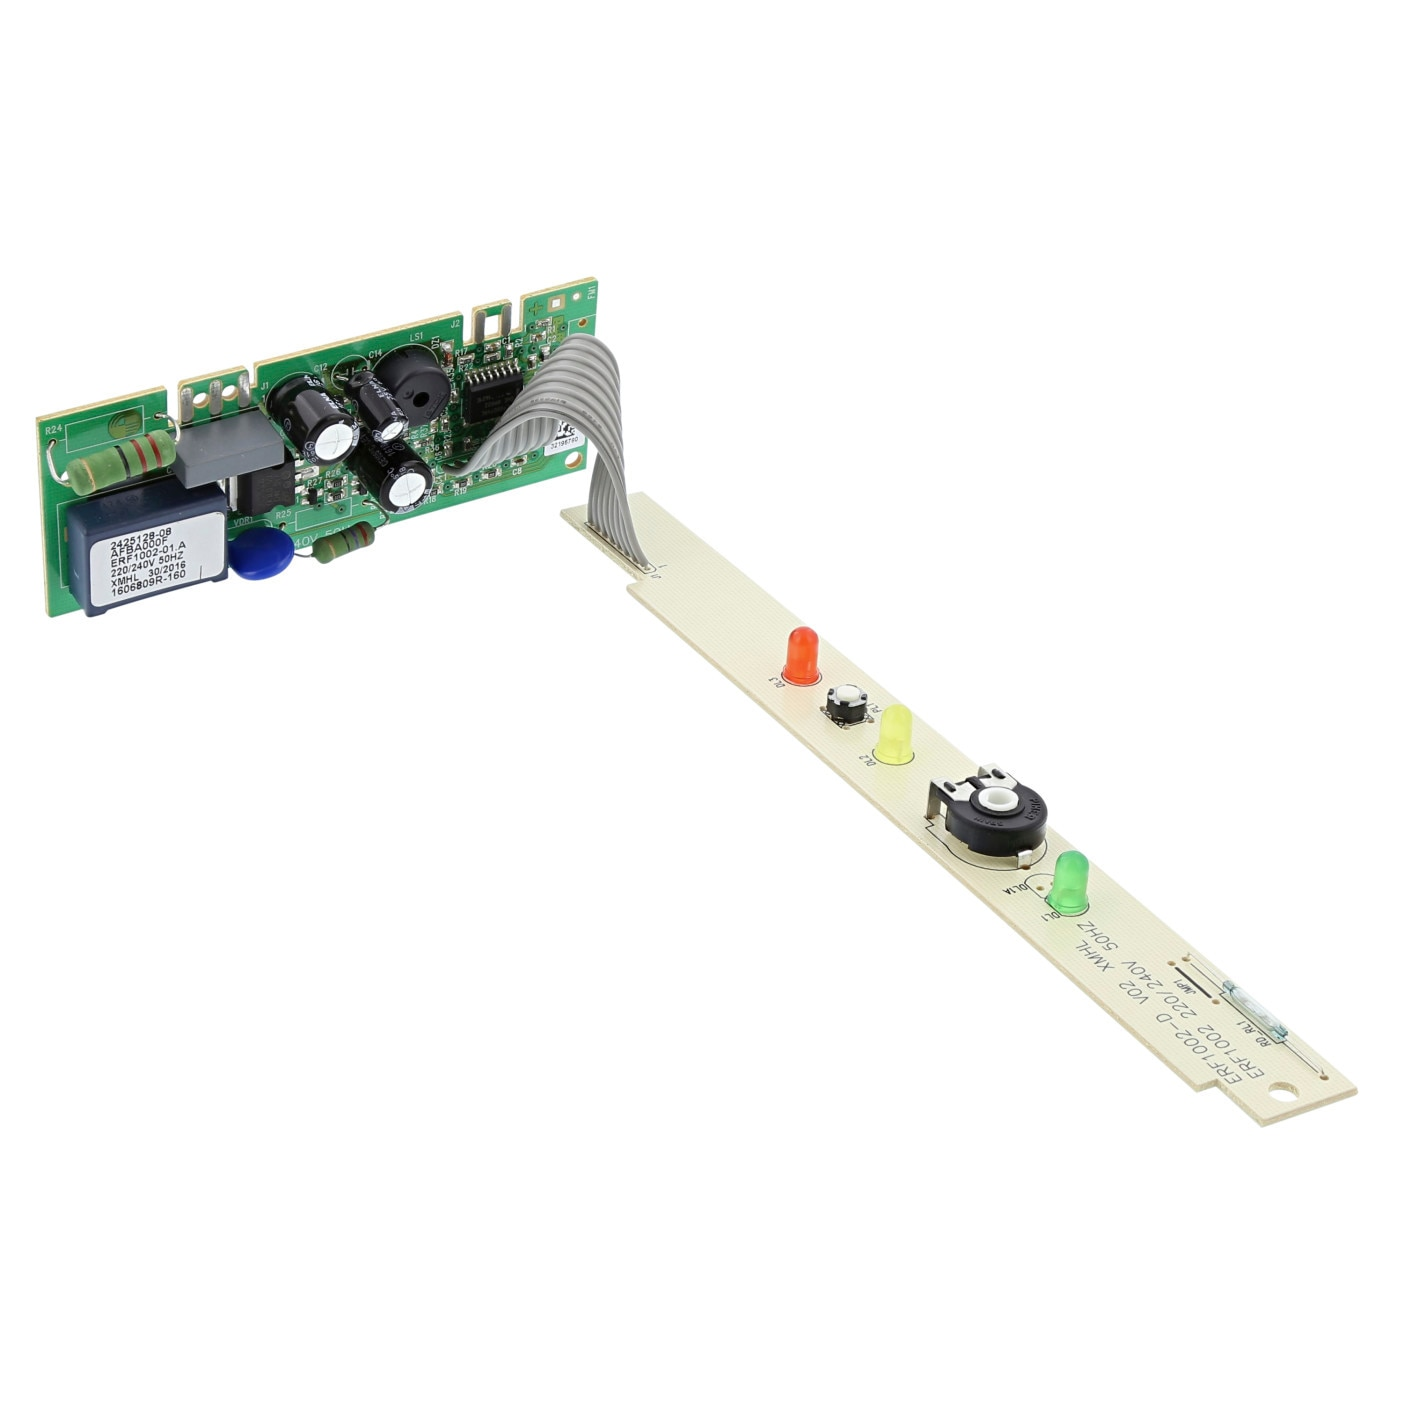Capacitor: (265, 372, 363, 468), (342, 426, 435, 516), (343, 370, 411, 445)
LED: (1047, 850, 1092, 915), (873, 705, 915, 765), (780, 626, 822, 687)
Resistor: (62, 429, 177, 498), (310, 519, 379, 566)
